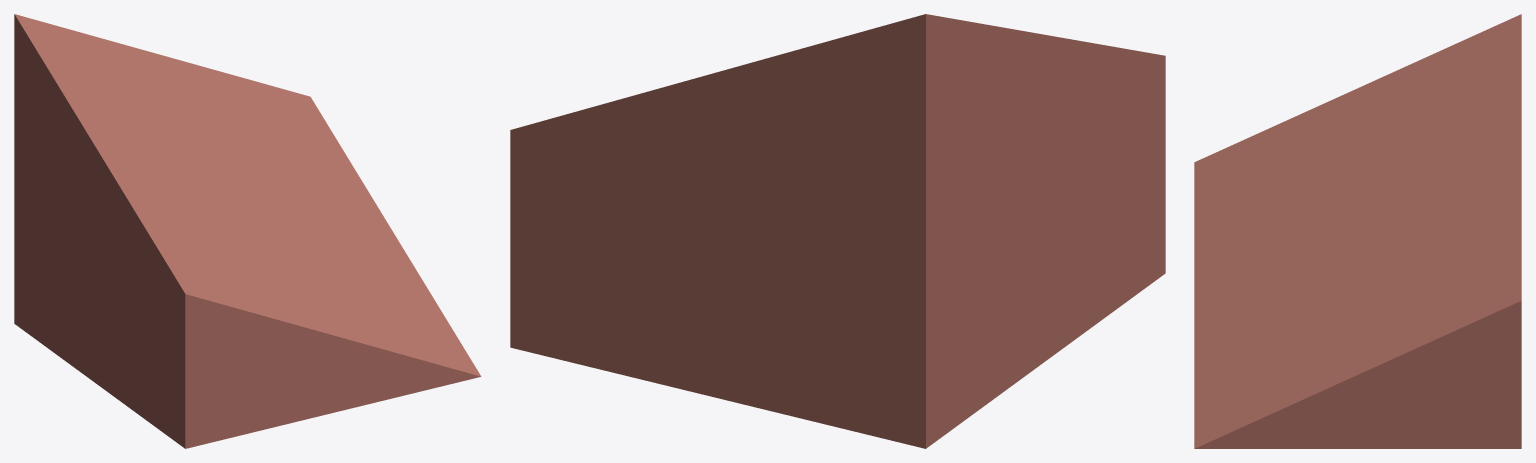
Rendered from Hazard_OuterCorner.glb.
3 renders of one model, left to right at view 1: azimuth 30°, elevation 25°; view 2: azimuth 150°, elevation 25°; view 3: azimuth 270°, elevation 25°, orthographic. The views are drawn at different scales.
Parts seen in each view (by area): view 1: Hazard_OuterCorner_body; view 2: Hazard_OuterCorner_body; view 3: Hazard_OuterCorner_body.
Boxes of the visible parts, x1=… form: Hazard_OuterCorner_body: x1=14, y1=14, x2=481, y2=448; Hazard_OuterCorner_body: x1=510, y1=14, x2=1165, y2=448; Hazard_OuterCorner_body: x1=1194, y1=14, x2=1521, y2=448.
Bounding box in the file's own units: 1 × 1 × 1.
